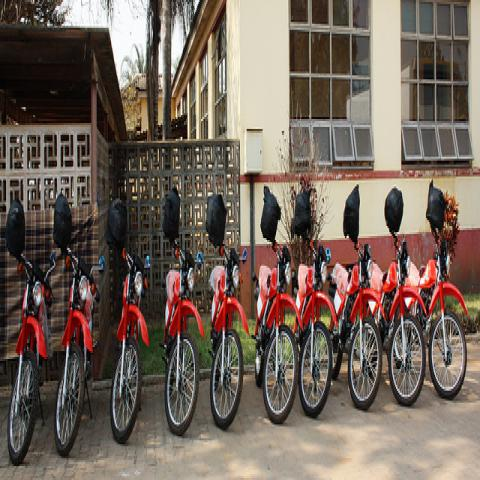motorcycle: (49, 184, 107, 456), (403, 180, 468, 403), (368, 186, 428, 408), (204, 184, 250, 430), (327, 239, 386, 409), (251, 240, 303, 428), (8, 243, 52, 462), (160, 243, 206, 438), (291, 234, 339, 418), (110, 247, 151, 443)
